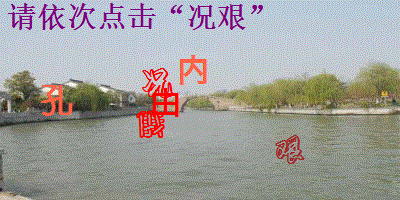result: (186, 2, 250, 31)
text: (39, 80, 76, 118), (177, 52, 210, 86), (140, 66, 174, 98), (135, 109, 167, 142), (274, 134, 305, 165), (151, 88, 181, 117)
